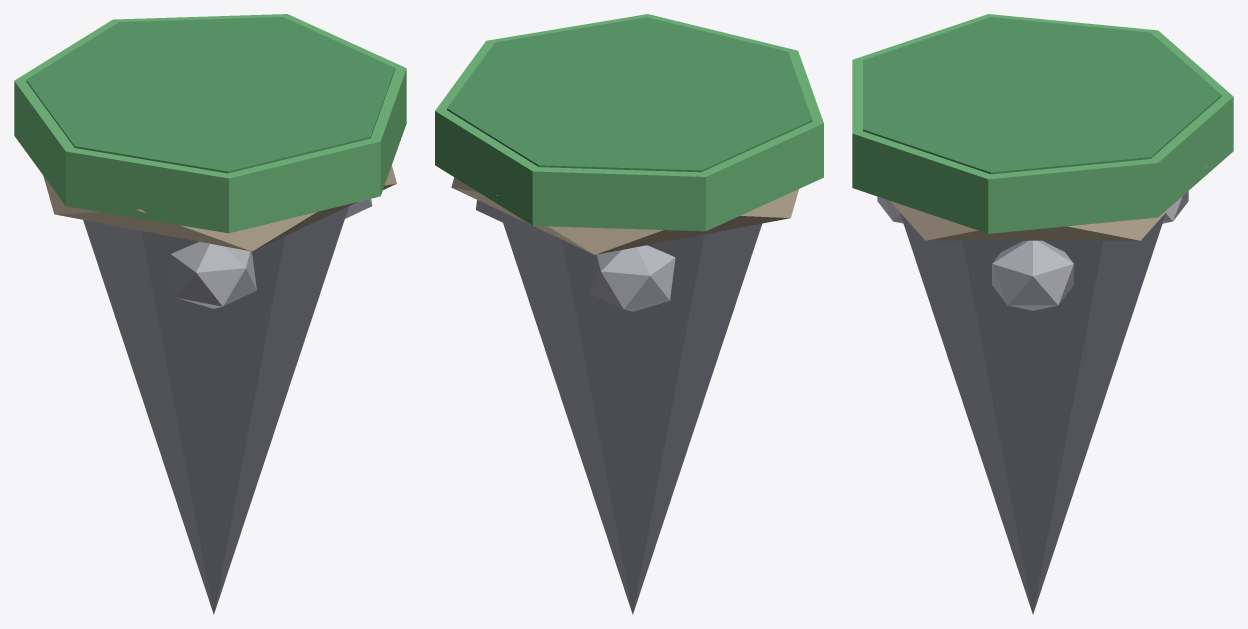
File: island.glb
3 views of the same model, side by side, from view 1: azimuth 30°, elevation 25°; view 2: azimuth 150°, elevation 25°; view 3: azimuth 270°, elevation 25° (orthographic).
Parts seen in each view (by area): view 1: IslandSpike, IslandGrass, IslandTop, IslandStone2, IslandRim; view 2: IslandSpike, IslandGrass, IslandTop, IslandRim, IslandStone1; view 3: IslandSpike, IslandGrass, IslandTop, IslandStone0, IslandRim.
Part boxes in pixels (bbox=[...]): IslandSpike: bbox=[83, 206, 348, 614]; IslandGrass: bbox=[26, 17, 395, 173]; IslandTop: bbox=[14, 14, 406, 233]; IslandStone2: bbox=[170, 241, 256, 308]; IslandRim: bbox=[43, 165, 396, 251]; IslandSpike: bbox=[499, 210, 761, 614]; IslandGrass: bbox=[447, 17, 812, 172]; IslandTop: bbox=[435, 14, 823, 231]; IslandRim: bbox=[451, 177, 798, 254]; IslandStone1: bbox=[590, 245, 675, 311]; IslandSpike: bbox=[899, 212, 1166, 614]; IslandGrass: bbox=[863, 17, 1221, 174]; IslandTop: bbox=[852, 14, 1233, 233]; IslandStone0: bbox=[992, 240, 1073, 310]; IslandRim: bbox=[890, 166, 1206, 240].
Size of the model in its own units: 1.95 by 2.86 by 1.9.
